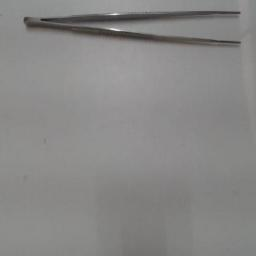DeBakey Dissector: (8, 8, 250, 60)
